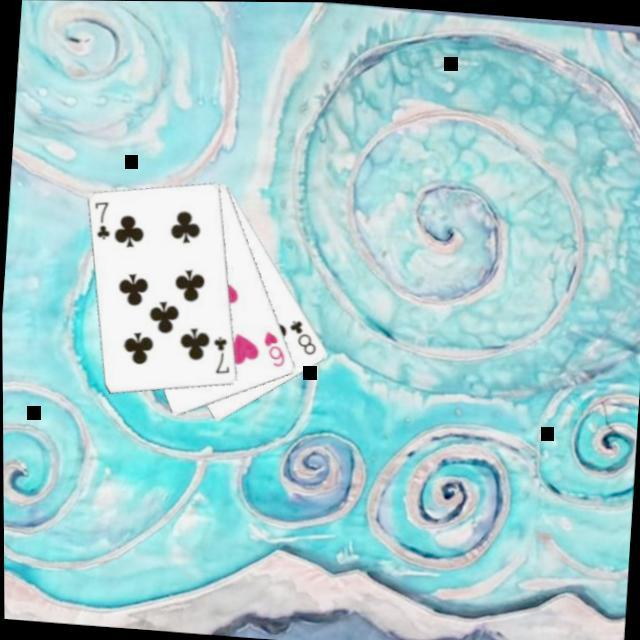6H: (257, 326, 288, 369)
7C: (88, 196, 114, 242), (207, 332, 233, 376)
8C: (283, 314, 320, 356)
